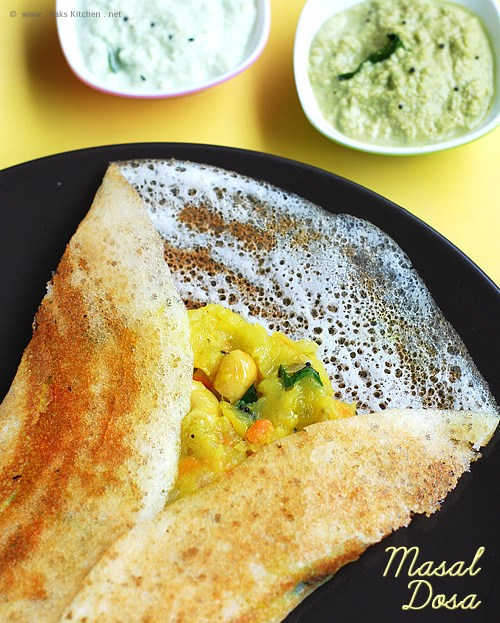dosa: (6, 161, 500, 621)
